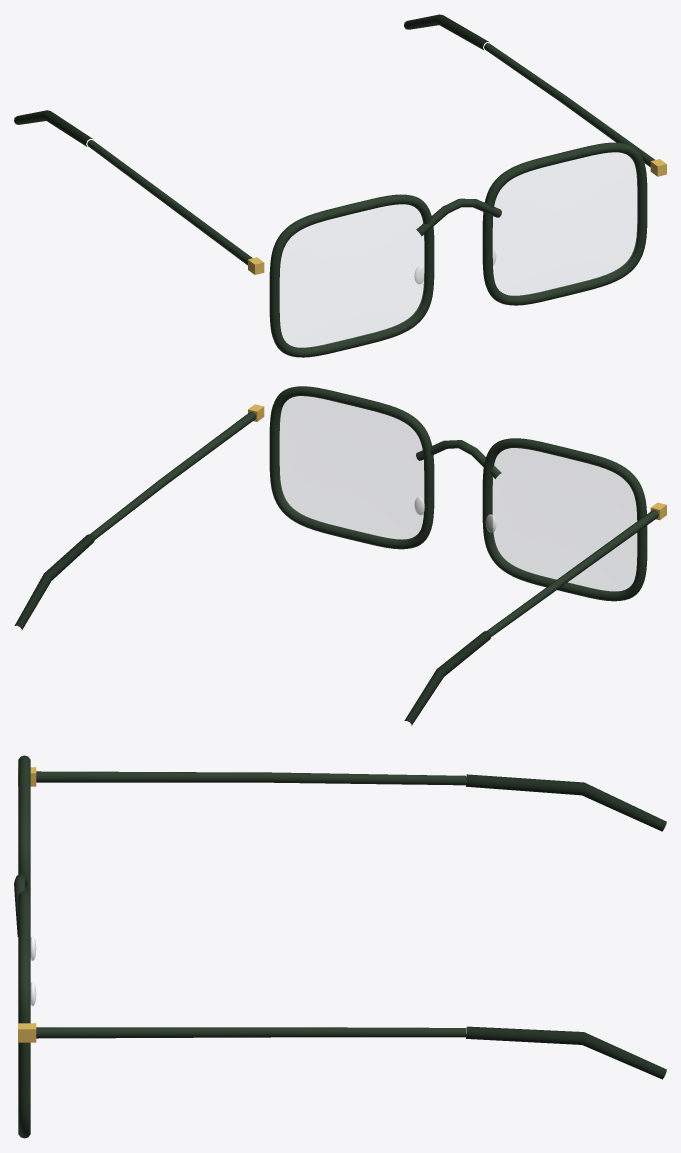
3 views of the same model, one above another, from view 1: azimuth 30°, elevation 25°; view 2: azimuth 150°, elevation 25°; view 3: azimuth 270°, elevation 25° (orthographic). The views are drawn at different scales.
Parts seen in each view (by area): view 1: Lens_L, Lens_R, Rim_L, Rim_R, Temple_L, Temple_R, TempleTip_R, TempleTip_L, Bridge; view 2: Lens_R, Lens_L, Rim_R, Rim_L, Temple_L, Temple_R, TempleTip_L, TempleTip_R, Bridge; view 3: Temple_R, Temple_L, Rim_R, TempleTip_L, TempleTip_R, Rim_L.
Part boxes in pixels (bbox=[...]): Lens_L: bbox=[280, 204, 424, 347]; Lens_R: bbox=[493, 152, 637, 295]; Rim_L: bbox=[269, 194, 434, 357]; Rim_R: bbox=[482, 142, 647, 305]; Temple_L: bbox=[87, 140, 252, 265]; Temple_R: bbox=[484, 43, 654, 167]; TempleTip_R: bbox=[404, 14, 489, 50]; TempleTip_L: bbox=[14, 110, 92, 146]; Bridge: bbox=[416, 198, 501, 236]; Lens_R: bbox=[279, 396, 423, 539]; Lens_L: bbox=[492, 448, 636, 591]; Rim_R: bbox=[269, 386, 434, 549]; Rim_L: bbox=[482, 438, 647, 601]; Temple_L: bbox=[487, 510, 658, 636]; Temple_R: bbox=[90, 411, 256, 539]; TempleTip_L: bbox=[404, 631, 491, 725]; TempleTip_R: bbox=[14, 534, 94, 630]; Bridge: bbox=[416, 440, 501, 478]; Temple_R: bbox=[36, 1027, 466, 1038]; Temple_L: bbox=[36, 771, 466, 785]; Rim_R: bbox=[18, 891, 30, 1138]; TempleTip_L: bbox=[466, 774, 666, 831]; TempleTip_R: bbox=[466, 1026, 666, 1079]; Rim_L: bbox=[18, 755, 30, 894].
Size of the model in its own units: 2.7 by 0.8987 by 2.84.
